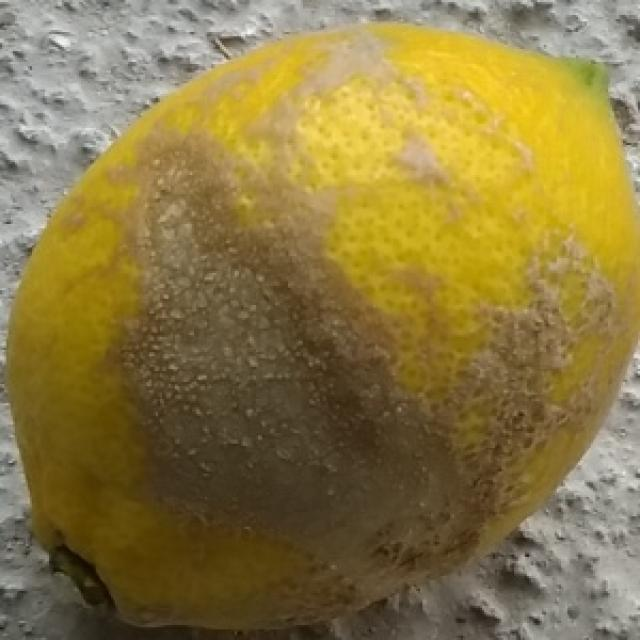overripe: (5, 16, 640, 640)
